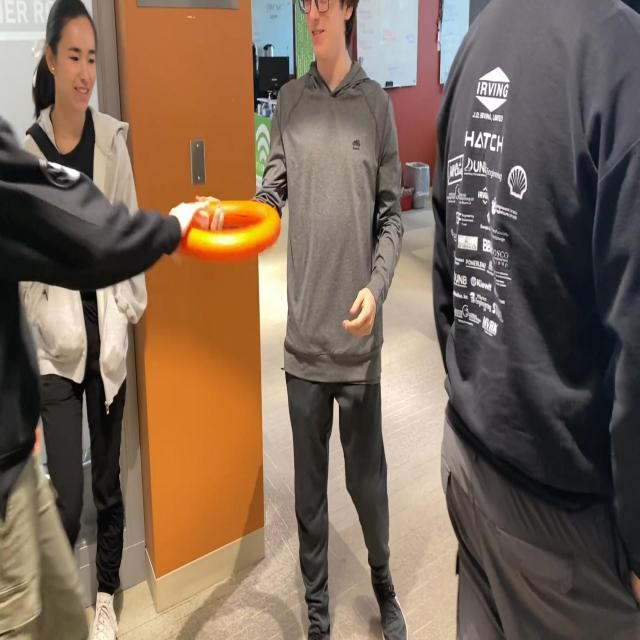note: (171, 192, 284, 263)
